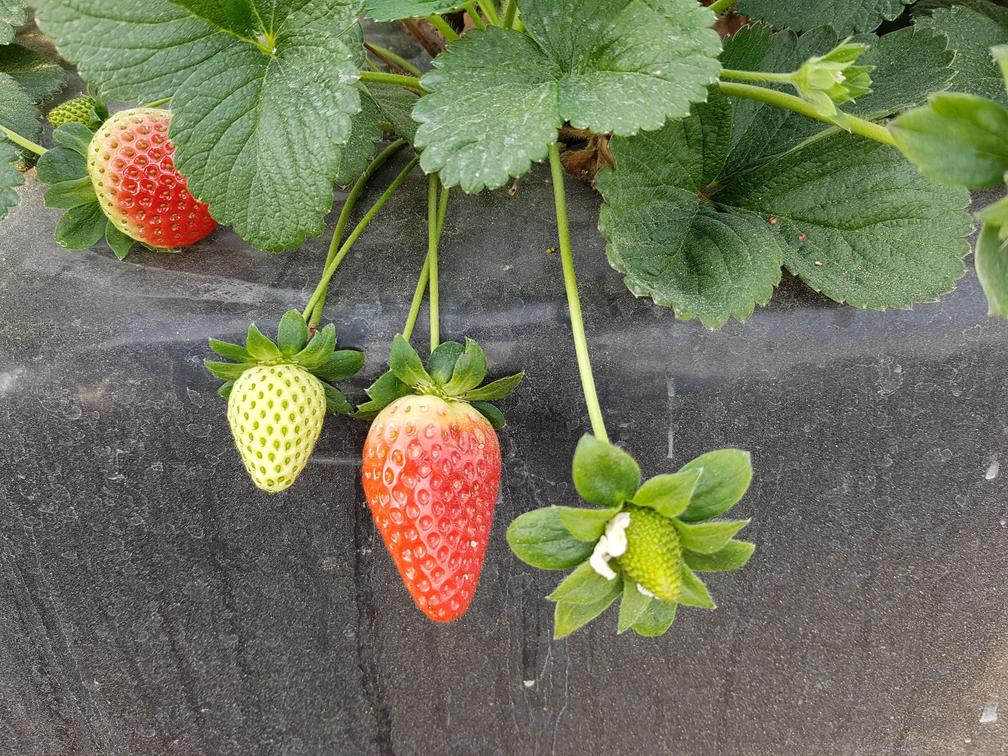Ripe: (355, 392, 509, 629), (84, 107, 213, 244)
Unripe: (224, 361, 329, 500), (605, 506, 698, 609)
